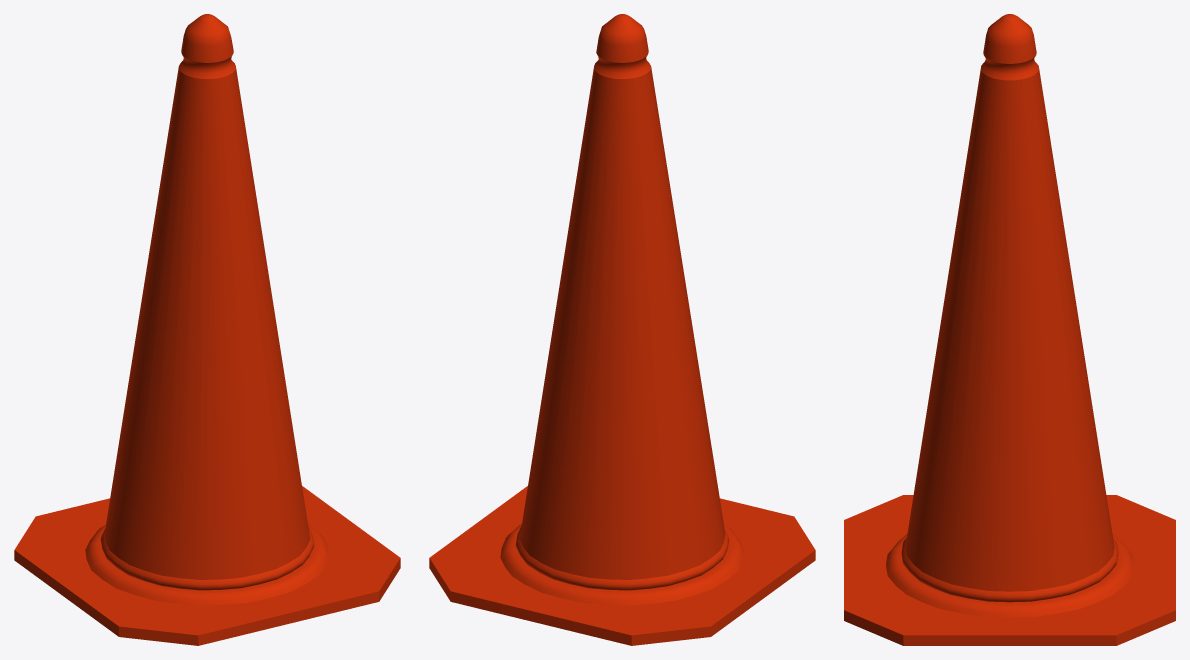
File: Traffic Cone.FBX
The picture shows the model from 3 angles, left to right: view 1: azimuth 30°, elevation 25°; view 2: azimuth 150°, elevation 25°; view 3: azimuth 270°, elevation 25°; orthographic projection. The views are drawn at different scales.
Parts seen in each view (by area): view 1: TrafficCone_low; view 2: TrafficCone_low; view 3: TrafficCone_low.
Boxes of the visible parts, left/top/right/bottom form: TrafficCone_low: left=14, top=14, right=400, bottom=645; TrafficCone_low: left=429, top=14, right=815, bottom=645; TrafficCone_low: left=844, top=14, right=1175, bottom=645.
Size of the model in its own units: 28 by 52.18 by 28.
